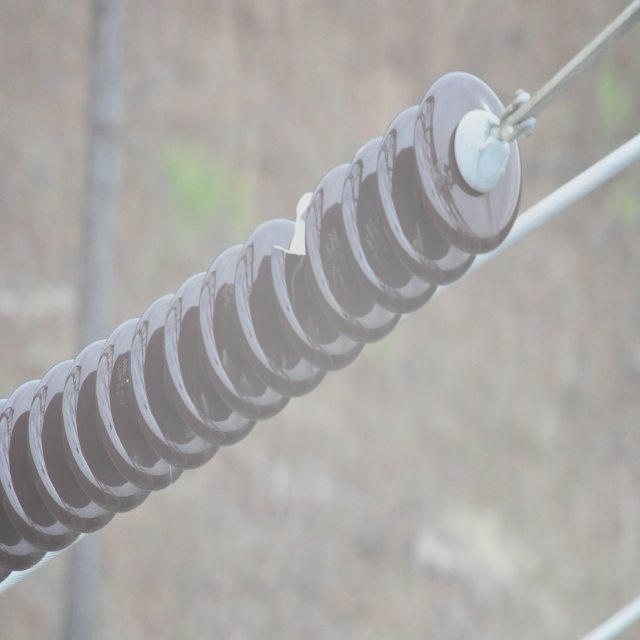broken: (274, 186, 313, 268)
insulator: (0, 70, 523, 579)
